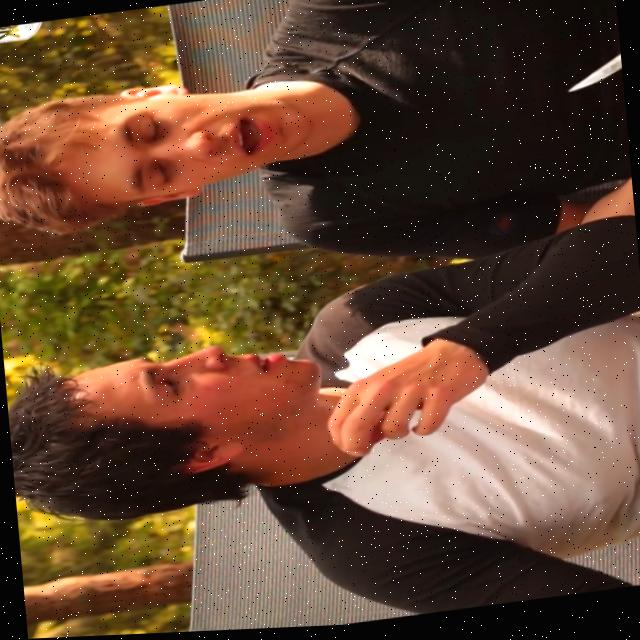knife: (552, 34, 624, 108)
